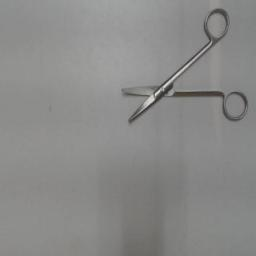Curved Mayo Scissors: (116, 4, 252, 128)
